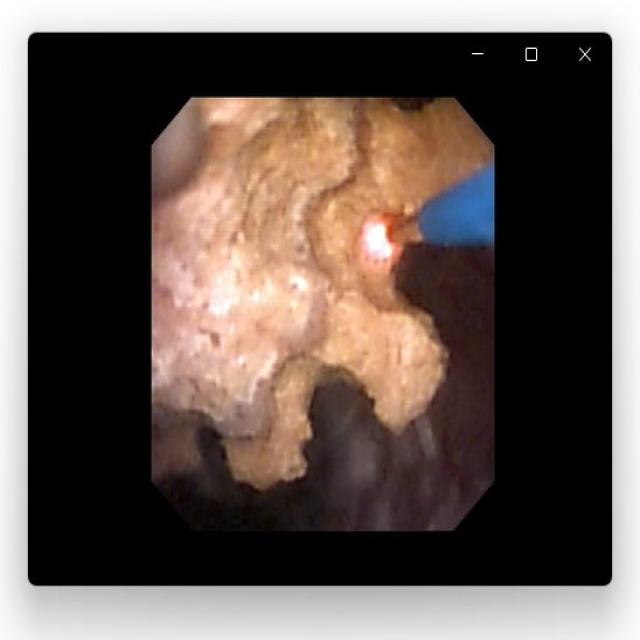fiber: (423, 169, 490, 240)
stone: (157, 102, 490, 486)
